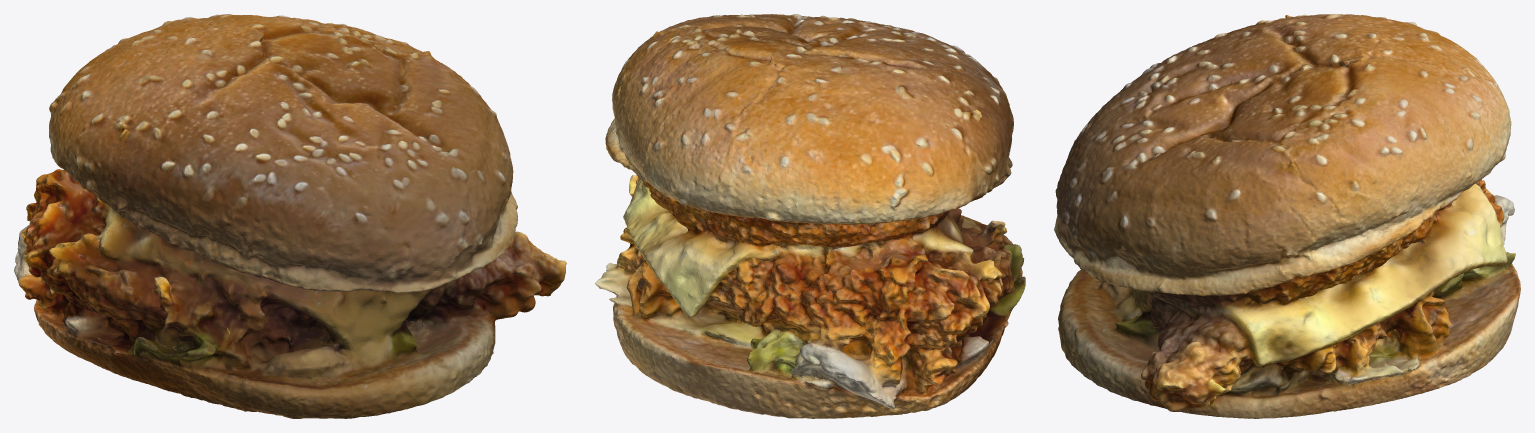
Rendered from kfc-zinger-burger.glb.
3 renders of one model, left to right at view 1: azimuth 30°, elevation 25°; view 2: azimuth 150°, elevation 25°; view 3: azimuth 270°, elevation 25°, orthographic. The views are drawn at different scales.
Size of the model in its own units: 0.1254 by 0.0755 by 0.115.
Materials: 1 (1 with a texture image).
